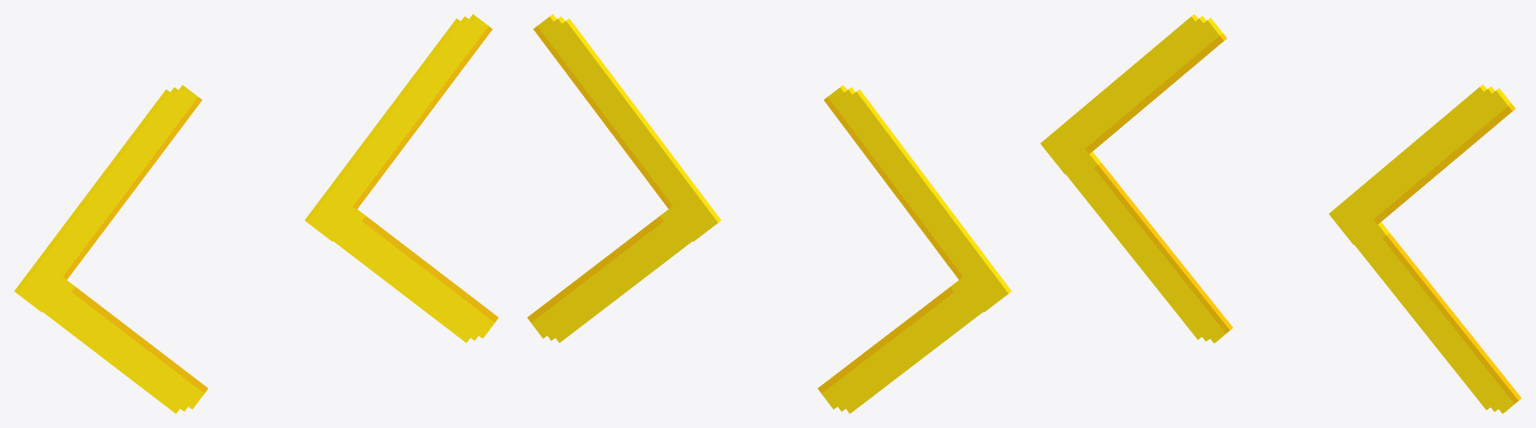
The model's file is 指示箭头.gltf.
The picture shows the model from 3 angles, left to right: view 1: azimuth 30°, elevation 25°; view 2: azimuth 150°, elevation 25°; view 3: azimuth 330°, elevation 25°; orthographic projection.
Parts seen in each view (by area): view 1: 箭头1 (×4); view 2: 箭头1 (×4); view 3: 箭头1 (×4).
Boxes of the visible parts, x1=… form: 箭头1 (×4): x1=14, y1=14, x2=498, y2=413; 箭头1 (×4): x1=527, y1=14, x2=1011, y2=413; 箭头1 (×4): x1=1040, y1=14, x2=1521, y2=413.
Size of what is drawn, in the model's own units: 83.5 by 53.75 by 1.
Materials: 1 (1 with a texture image).
